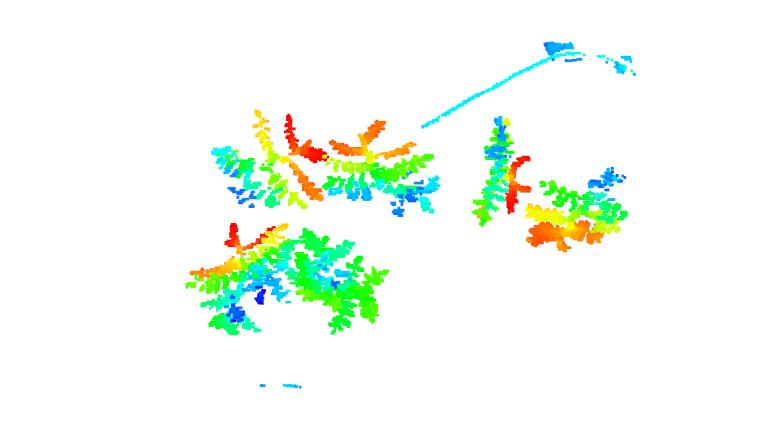chickpea: (208, 111, 331, 212), (185, 223, 291, 336), (332, 118, 439, 219), (291, 226, 387, 335), (525, 167, 632, 249), (471, 115, 534, 225)
